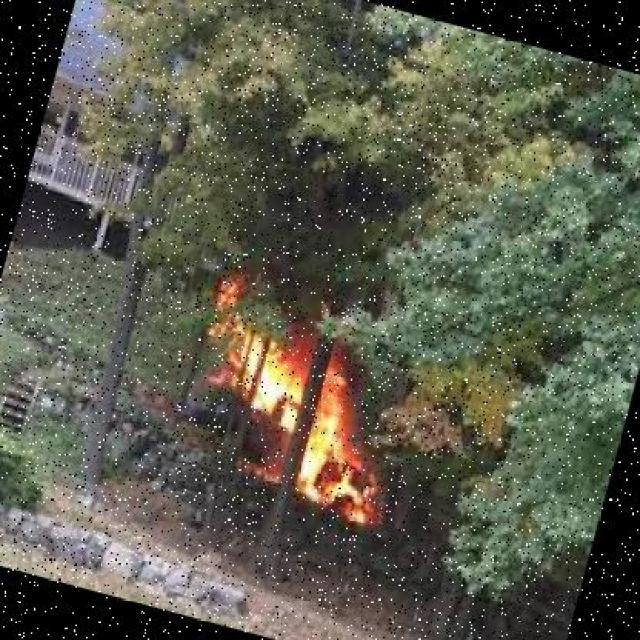fire: (154, 258, 440, 548)
